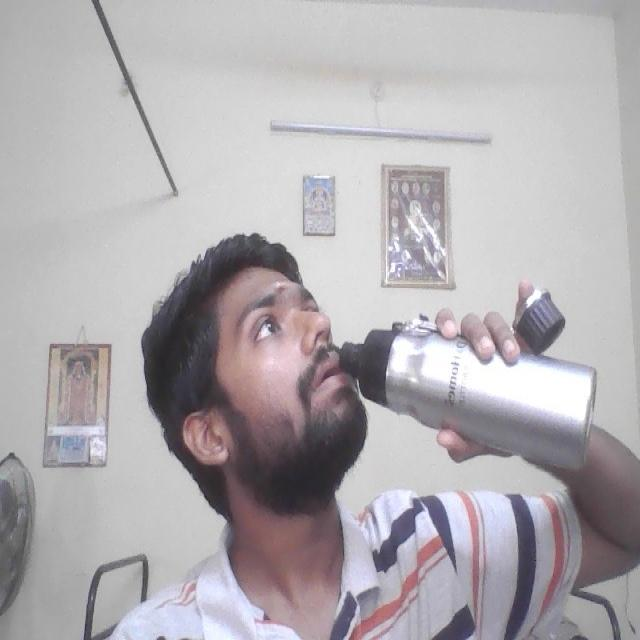Drinking: (339, 285, 607, 495)
